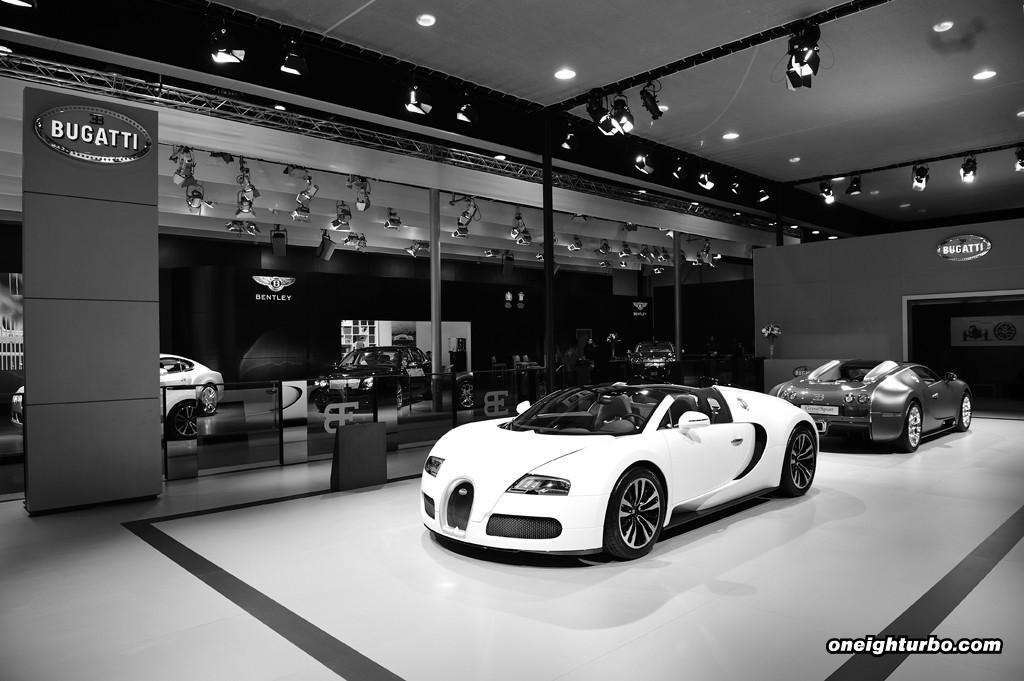car: (415, 382, 816, 565)
